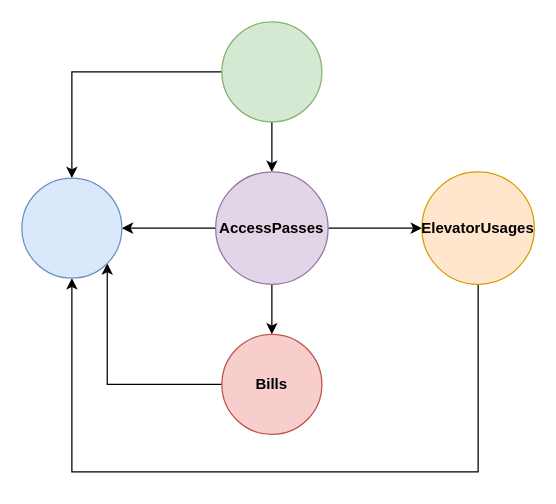
Some shapes in this 556 by 504 pixel diagram are drawn without their labels. Here are the shapes that lost their labels. From the top down, the box of each, then its label:
(221, 21, 322, 122): Accounts
(21, 177, 122, 278): Instants
